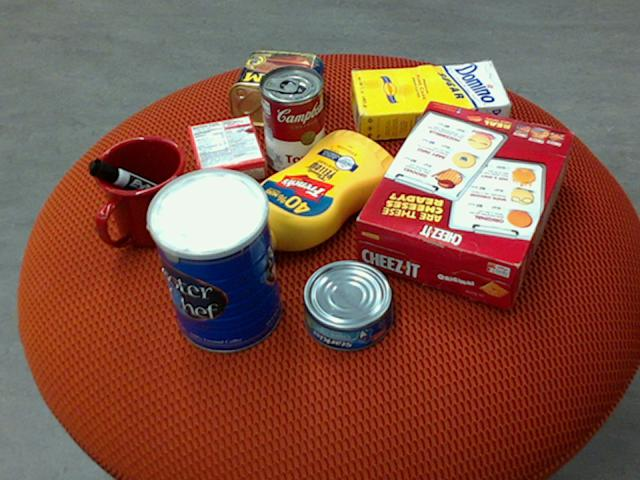cracker_box: (356, 99, 576, 308)
gelatin_box: (187, 114, 265, 190)
large_marker: (87, 158, 188, 212)
master_chef_can: (142, 168, 281, 353)
mug: (92, 135, 192, 247)
mustard_bottle: (233, 129, 398, 257)
potted_meat_can: (230, 50, 326, 129)
sugar_box: (350, 60, 512, 141)
tomato_soup_can: (260, 63, 325, 174)
tuna_fish_can: (303, 260, 394, 352)
